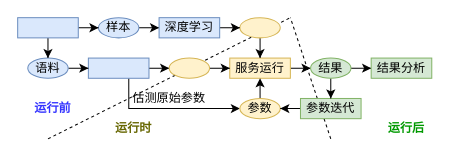
Image size: 449x158. Some labels were removed from this diagram. Here are the shapes that lost their labels. From the top down, the centre of each, then its label:
point (47, 27): 数据获取
point (259, 27): 模型
point (118, 67): 数据处理
point (189, 67): 词库
